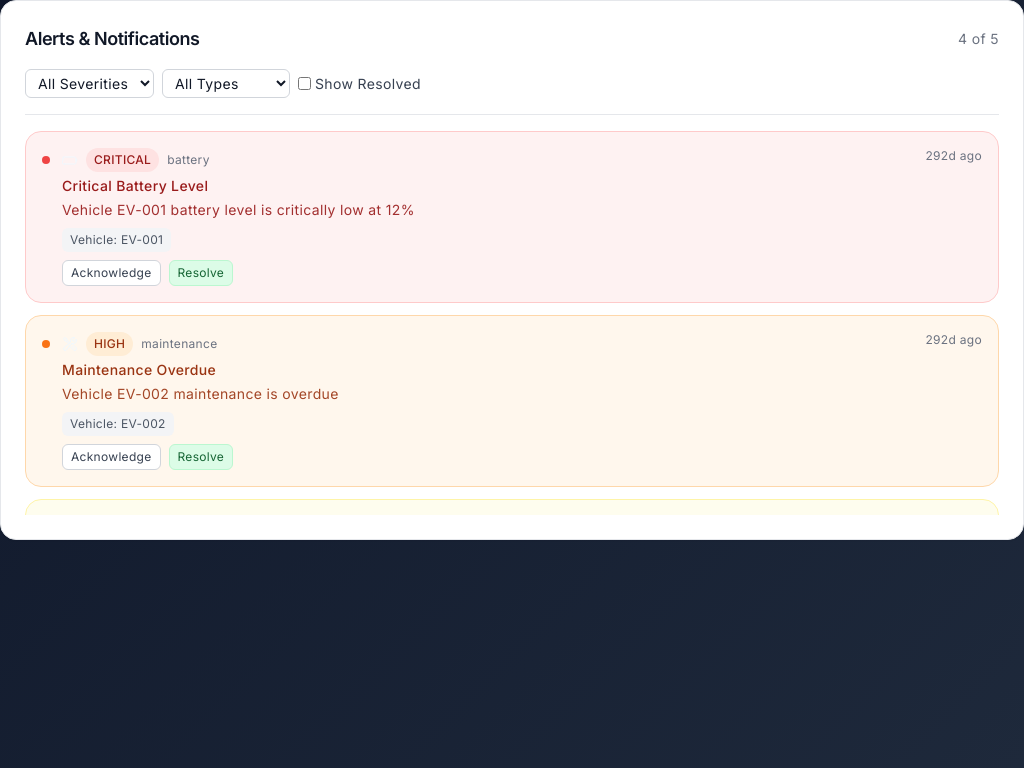
AlertPanel › Filtering › filters alerts by type
Select "Battery" in the 2nd dropdown showing "All Types": (226, 84) top-left (162, 69), bottom-right (290, 98)
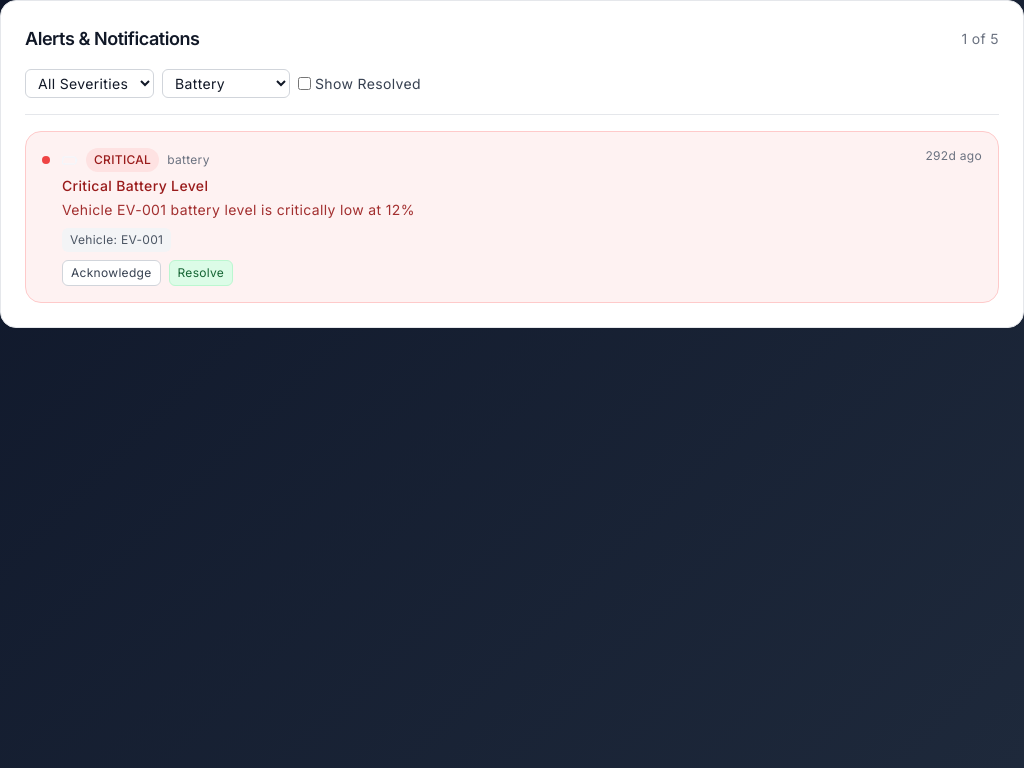
Expected: the heading "Critical Battery Level" is shown, top-left (62, 177), bottom-right (208, 194)
Now the heading "Maintenance Overdue" is gone
